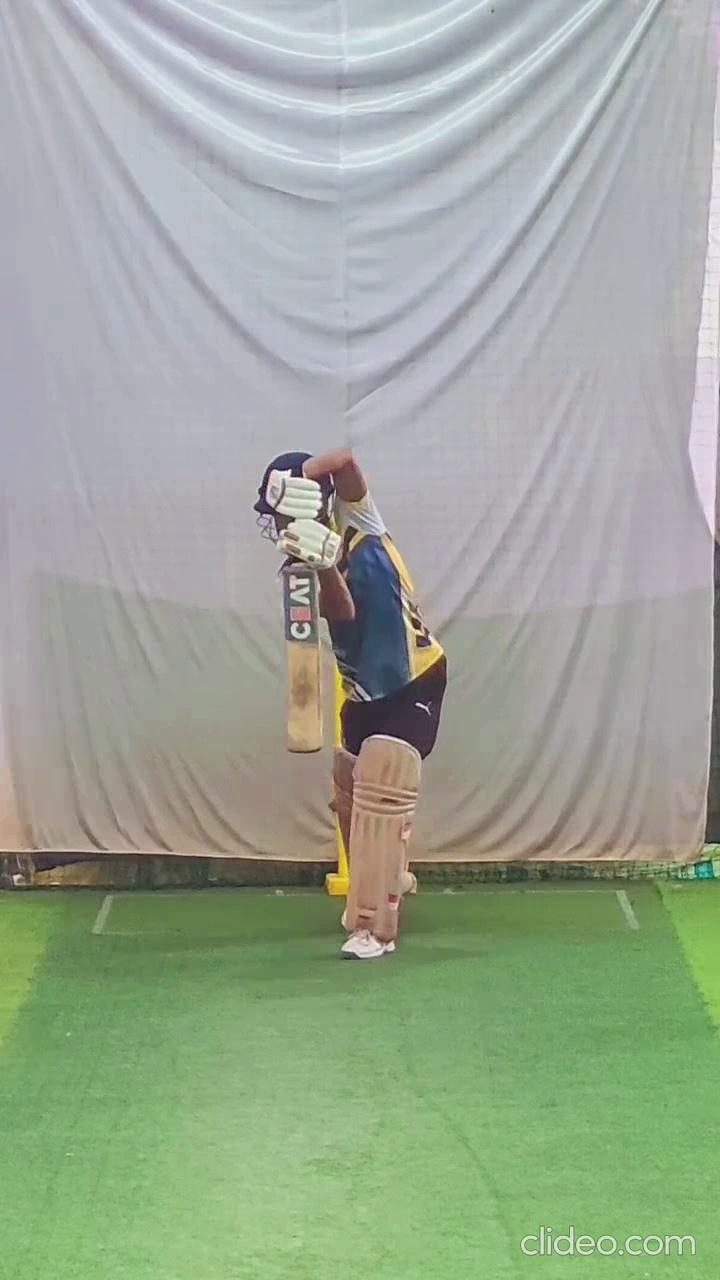bat: (279, 564, 326, 755)
